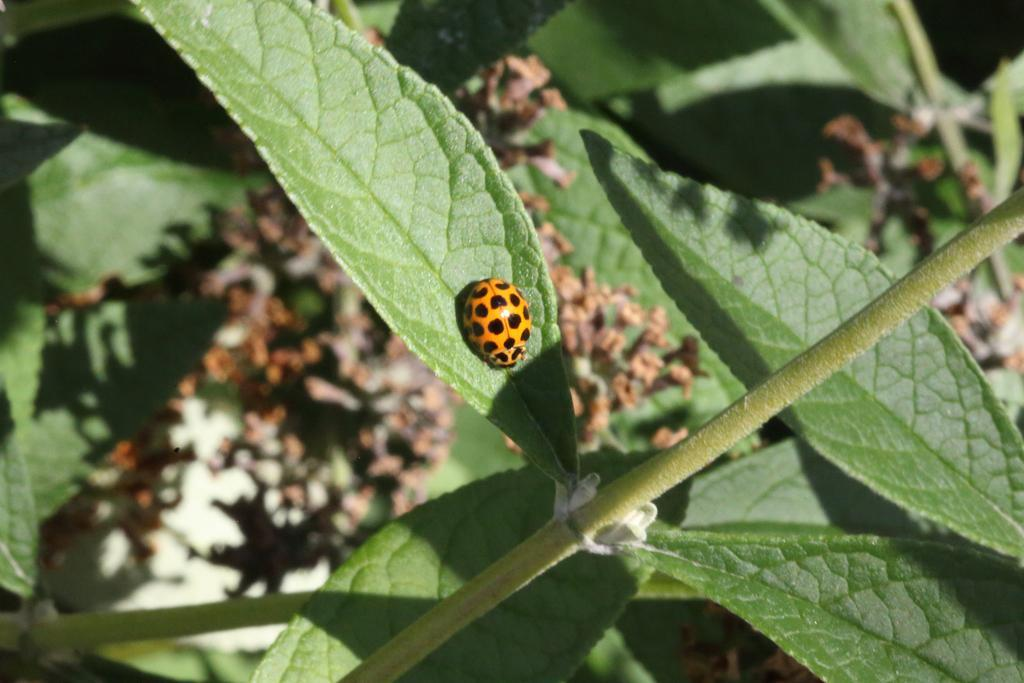ladybug: (459, 277, 537, 373)
